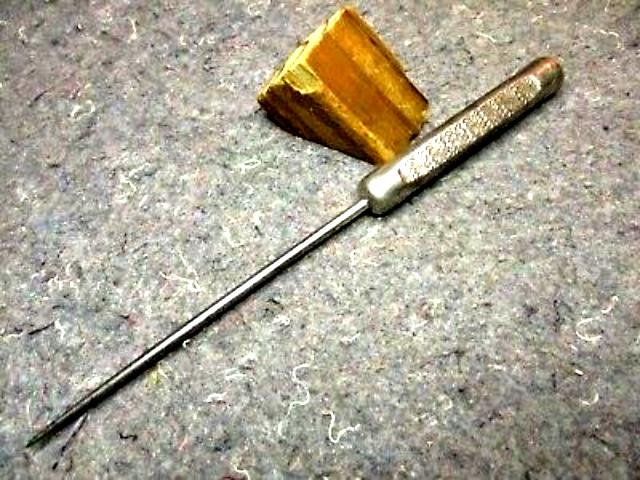ice pick: (25, 57, 563, 448)
